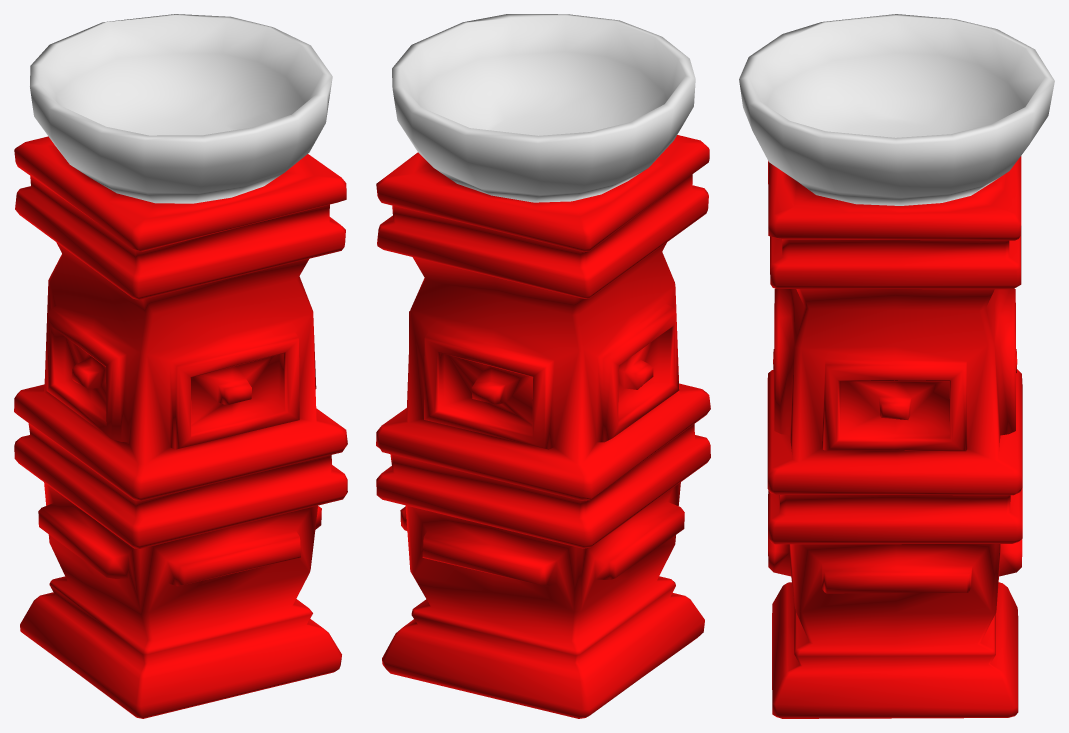
The model's file is flambeau_lowPoly.fbx.
3 renders of one model, left to right at view 1: azimuth 30°, elevation 25°; view 2: azimuth 150°, elevation 25°; view 3: azimuth 270°, elevation 25°, orthographic. The views are drawn at different scales.
Visible parts, largest first — view 1: BSurfaceMesh.003; view 2: BSurfaceMesh.003; view 3: BSurfaceMesh.003.
Boxes of the visible parts, left/top/right/bottom form: BSurfaceMesh.003: left=14, top=14, right=347, bottom=718; BSurfaceMesh.003: left=376, top=14, right=710, bottom=718; BSurfaceMesh.003: left=739, top=14, right=1054, bottom=718.
Size of the model in its own units: 134 by 282 by 136.
